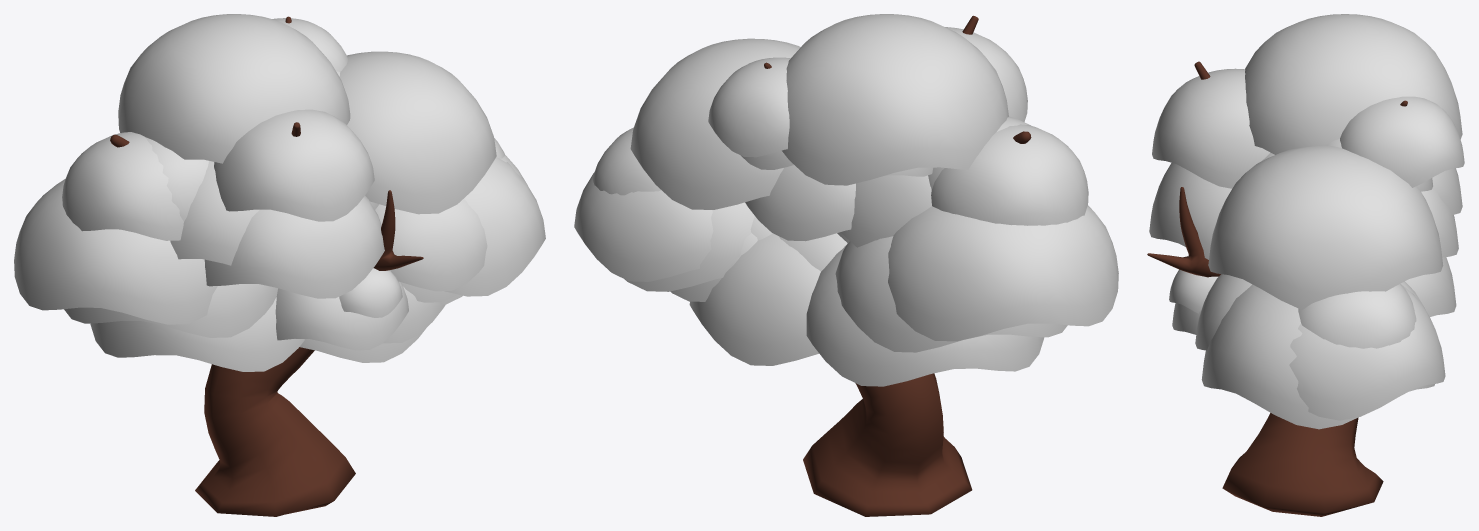
The model's file is Tree.fbx.
The picture shows the model from 3 angles, left to right: view 1: azimuth 30°, elevation 25°; view 2: azimuth 150°, elevation 25°; view 3: azimuth 270°, elevation 25°; orthographic projection. The views are drawn at different scales.
Visible parts, largest first — view 1: Cube.006; view 2: Cube.006; view 3: Cube.006.
Boxes of the visible parts, x1,y1,x2,y2 form: Cube.006: (14,14,545,516); Cube.006: (574,14,1118,516); Cube.006: (1147,14,1464,516).
Bounding box in the file's own units: 4.92 × 4.38 × 2.74.
